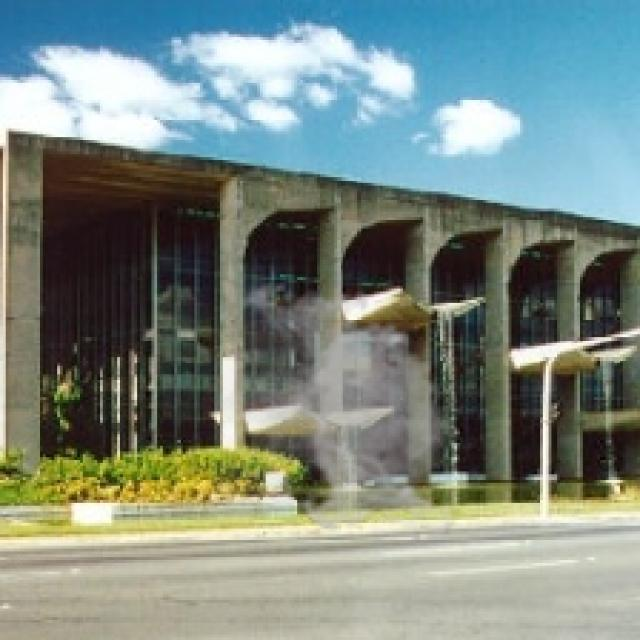Smoke: (214, 274, 466, 534)
